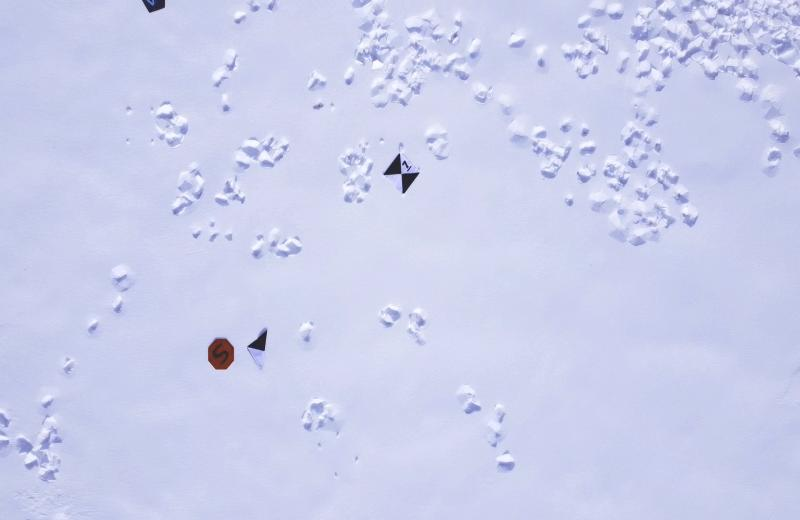Octagon: (204, 335, 237, 374)
Pentagon: (136, 0, 172, 16)
